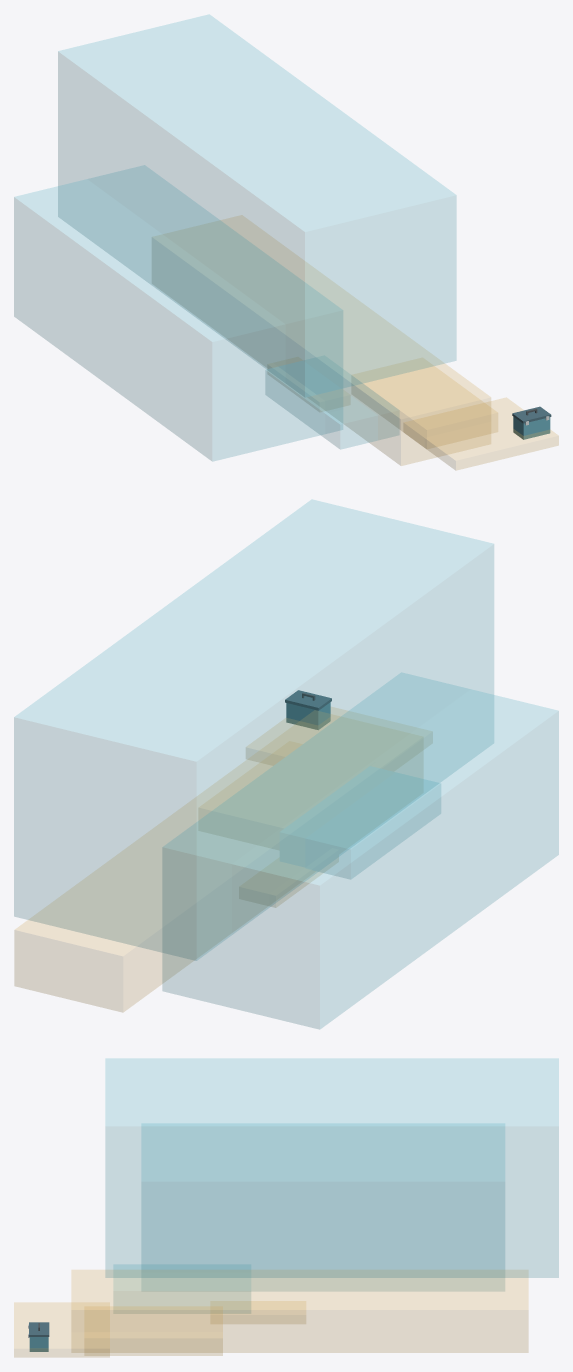
File: twin-workbench-asset-scene.gltf
3 views of the same model, one above another, from view 1: azimuth 30°, elevation 25°; view 2: azimuth 150°, elevation 25°; view 3: azimuth 270°, elevation 25° (orthographic). The views are drawn at different scales.
Parts seen in each view (by area): view 1: EQ-0003 작업용 광학 장치, EQ-0007 광학 장치 지지대, EQ-0004 고정 지그, EQ-0002 정밀 측정 장치, EQ-0001 목재 작업대, EQ-0006 작업 받침, equipment-case; view 2: EQ-0003 작업용 광학 장치, EQ-0007 광학 장치 지지대, EQ-0004 고정 지그, EQ-0002 정밀 측정 장치, equipment-case, EQ-0001 목재 작업대; view 3: EQ-0003 작업용 광학 장치, EQ-0007 광학 장치 지지대, EQ-0004 고정 지그, EQ-0006 작업 받침, EQ-0002 정밀 측정 장치, EQ-0001 목재 작업대, EQ-0005 부품 트레이.
Part boxes in pixels (bbox=[...]): EQ-0003 작업용 광학 장치: bbox=[58, 14, 456, 397]; EQ-0007 광학 장치 지지대: bbox=[14, 165, 342, 461]; EQ-0004 고정 지그: bbox=[221, 215, 490, 465]; EQ-0002 정밀 측정 장치: bbox=[266, 370, 398, 449]; EQ-0001 목재 작업대: bbox=[404, 397, 558, 470]; EQ-0006 작업 받침: bbox=[363, 366, 497, 432]; equipment-case: bbox=[513, 416, 550, 439]; EQ-0003 작업용 광학 장치: bbox=[14, 499, 493, 960]; EQ-0007 광학 장치 지지대: bbox=[162, 673, 558, 1029]; EQ-0004 고정 지그: bbox=[14, 711, 339, 1012]; EQ-0002 정밀 측정 장치: bbox=[319, 783, 440, 878]; equipment-case: bbox=[286, 702, 330, 729]; EQ-0001 목재 작업대: bbox=[246, 707, 347, 758]; EQ-0003 작업용 광학 장치: bbox=[105, 1058, 558, 1277]; EQ-0007 광학 장치 지지대: bbox=[142, 1124, 504, 1290]; EQ-0004 고정 지그: bbox=[71, 1270, 528, 1352]; EQ-0006 작업 받침: bbox=[84, 1307, 222, 1355]; EQ-0002 정밀 측정 장치: bbox=[114, 1265, 250, 1313]; EQ-0001 목재 작업대: bbox=[14, 1302, 109, 1357]; EQ-0005 부품 트레이: bbox=[223, 1301, 305, 1323].
Size of the model in its own units: 1.54 by 1.27 by 2.85.
